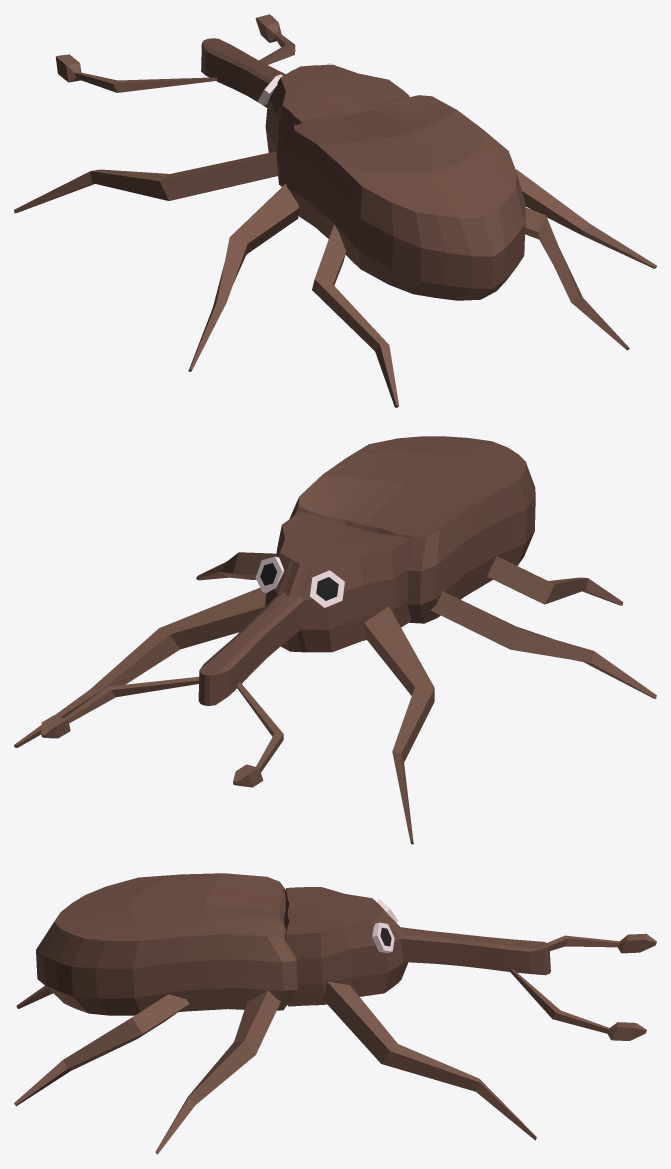
The model's file is dolgonos.fbx.
3 views of the same model, one above another, from view 1: azimuth 30°, elevation 25°; view 2: azimuth 150°, elevation 25°; view 3: azimuth 270°, elevation 25° (orthographic). The views are drawn at different scales.
Visible parts, largest first — view 1: body, head, leg_left_3, leg_left_2, leg_left_1, leg_right_2, leg_right_1, us_left, us_right; view 2: body, head, leg_right_3, leg_left_3, leg_left_2, leg_left_1, us_right, us_left, leg_right_2, eye_1.001, eye_1; view 3: body, head, leg_right_3, leg_right_2, leg_right_1, us_right, us_left, eye_1.
Part boxes in pixels (bbox=[...]): body: bbox=[280, 95, 525, 300]; head: bbox=[201, 38, 409, 185]; leg_left_3: bbox=[14, 151, 278, 213]; leg_left_2: bbox=[188, 184, 299, 371]; leg_left_1: bbox=[312, 224, 398, 407]; leg_right_2: bbox=[515, 169, 656, 268]; leg_right_1: bbox=[525, 207, 629, 350]; us_left: bbox=[55, 54, 217, 92]; us_right: bbox=[255, 14, 295, 64]; body: bbox=[289, 436, 535, 623]; head: bbox=[198, 511, 412, 705]; leg_right_3: bbox=[14, 587, 266, 747]; leg_left_3: bbox=[364, 606, 434, 844]; leg_left_2: bbox=[430, 591, 656, 698]; leg_left_1: bbox=[487, 556, 623, 605]; us_right: bbox=[41, 676, 199, 738]; us_left: bbox=[233, 682, 283, 787]; leg_right_2: bbox=[196, 552, 276, 580]; eye_1.001: bbox=[310, 570, 344, 607]; eye_1: bbox=[255, 556, 284, 592]; body: bbox=[36, 873, 298, 1015]; head: bbox=[284, 887, 550, 1006]; leg_right_3: bbox=[323, 981, 536, 1140]; leg_right_2: bbox=[155, 990, 280, 1154]; leg_right_1: bbox=[14, 994, 189, 1106]; us_right: bbox=[509, 968, 646, 1040]; us_left: bbox=[547, 933, 656, 953]; eye_1: bbox=[372, 922, 394, 952].
Bounding box in the file's own units: 320 × 113 × 436.
